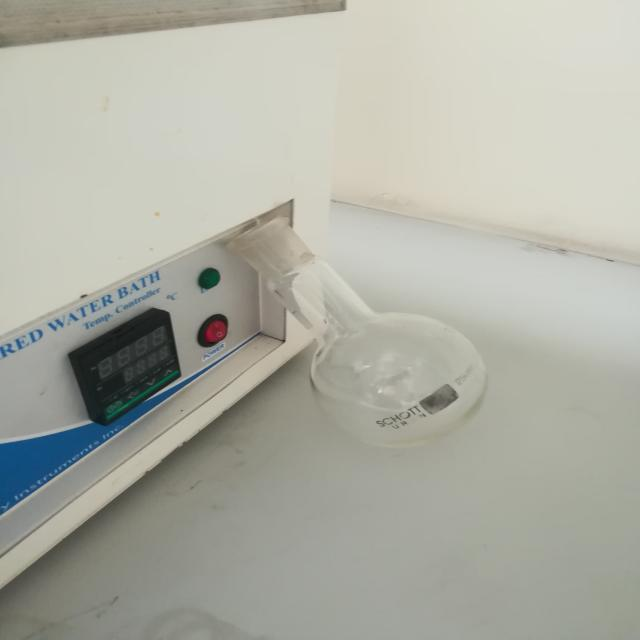Round_Bottom_Flask_Borosilicate_Glass_1_Neck: (179, 178, 526, 472)
